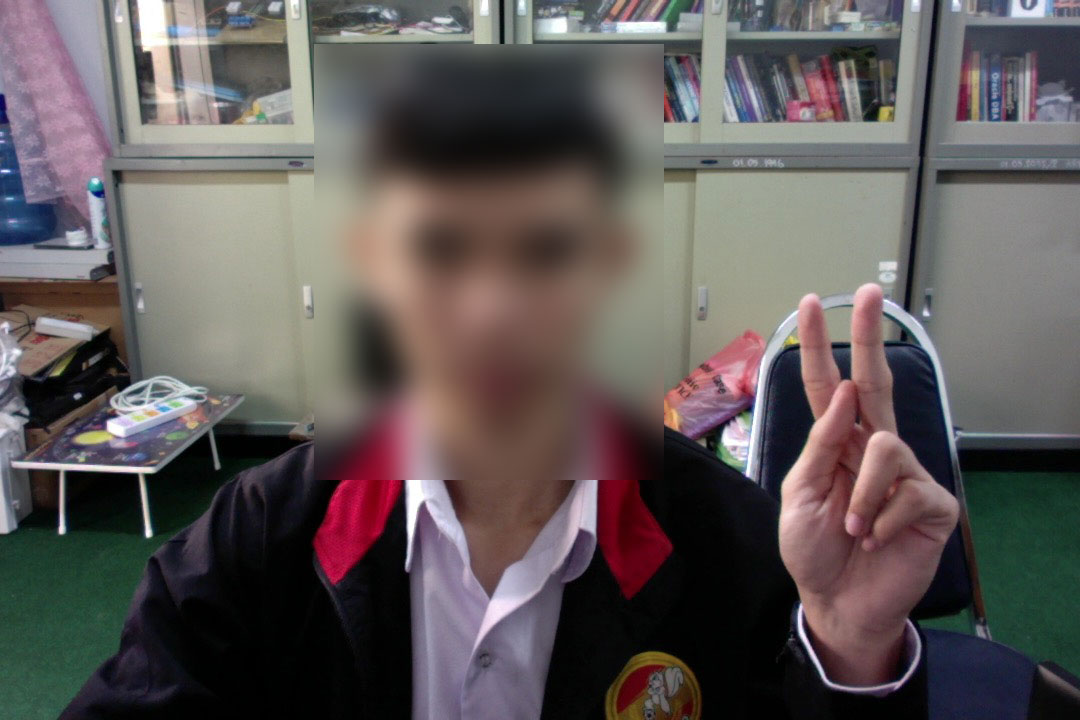ko: (770, 274, 974, 687)
